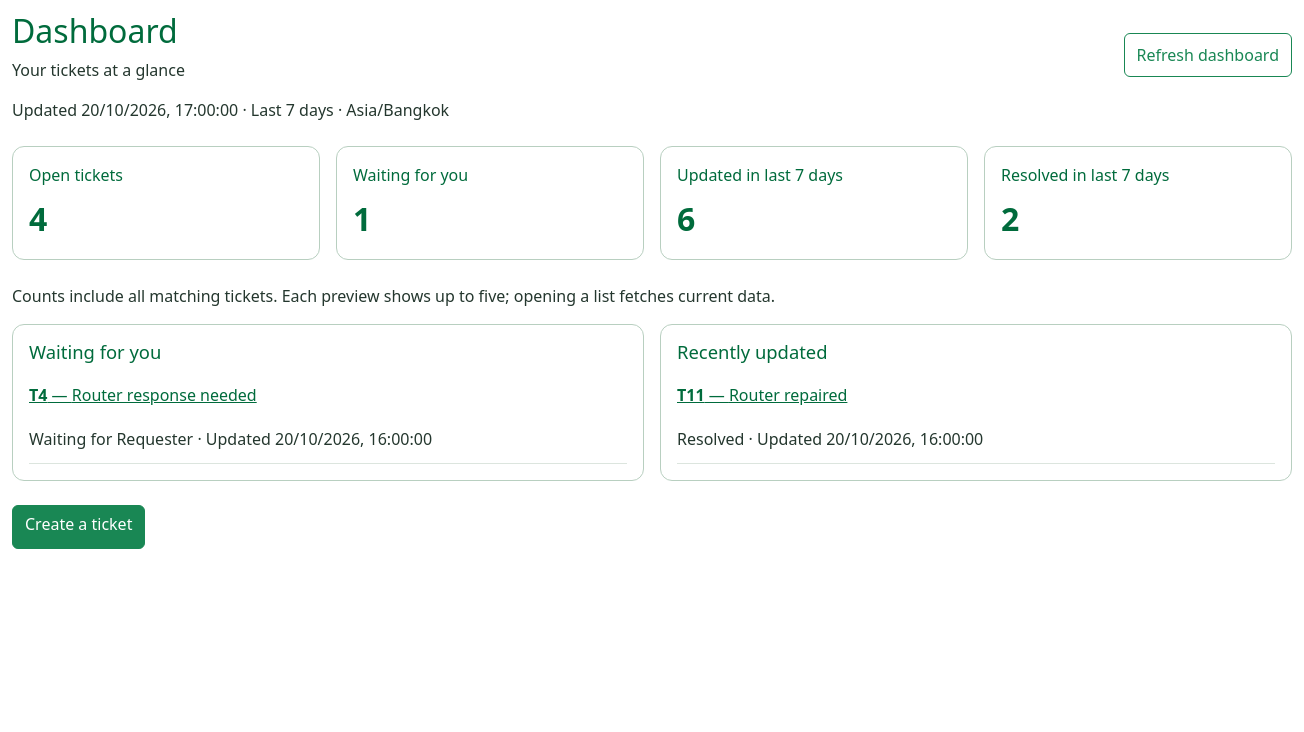
Requester dashboard (UI-07) › labels retained data as old after a failed background refresh
Check: the link "Open tickets 4" is shown, box [12,146,320,260]
Step 1. Click the button "Refresh dashboard" → {"x": 1208, "y": 55}, box [1124,33,1292,77]
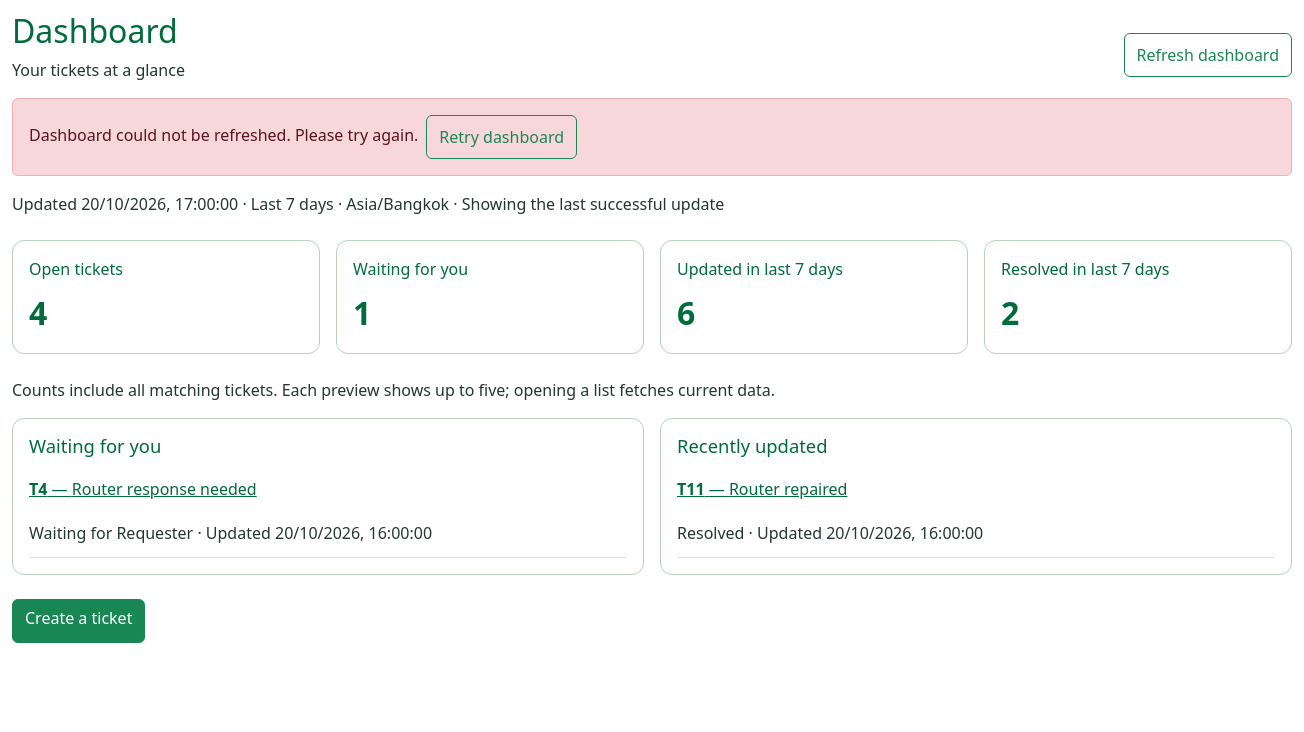
Check: the link "Open tickets 4" is shown, box [12,240,320,354]
Check: the text "Showing the last successful update" is shown, box [449,193,724,215]
